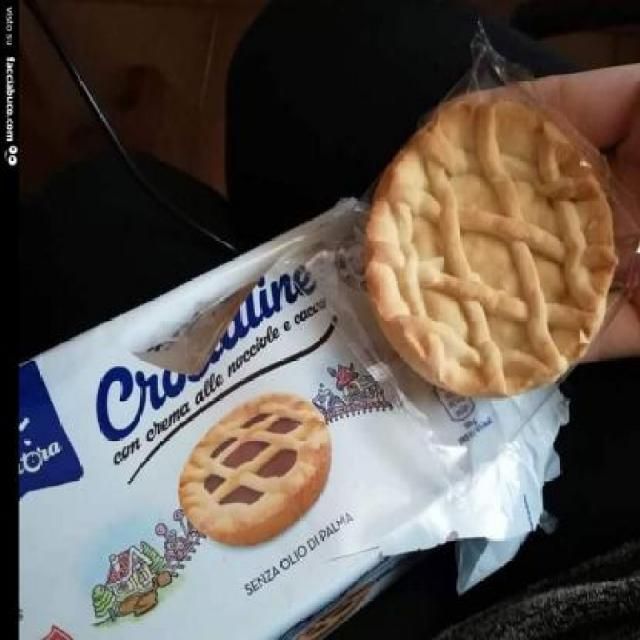Merendine: (18, 191, 566, 638)
Merendine packaged: (351, 87, 615, 396)
